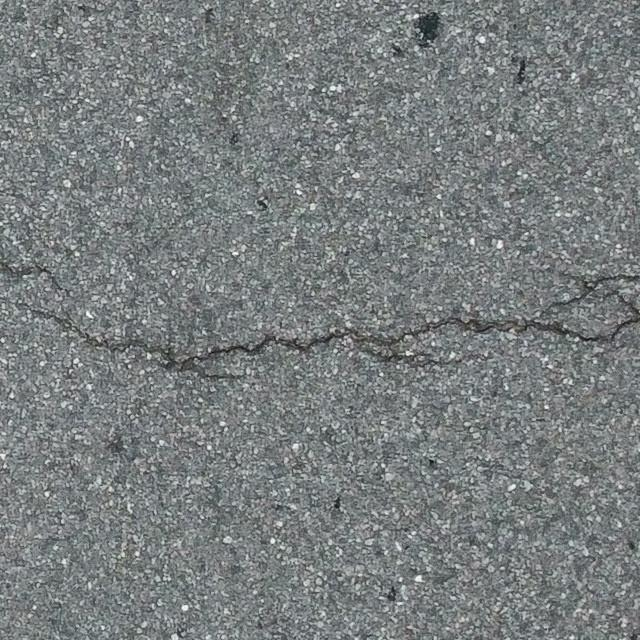TransverseCrack: (28, 271, 640, 378)
